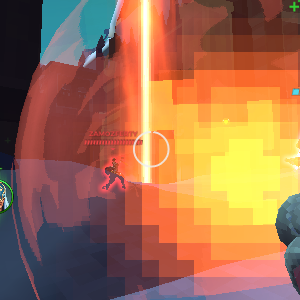model: (101, 154, 124, 191)
